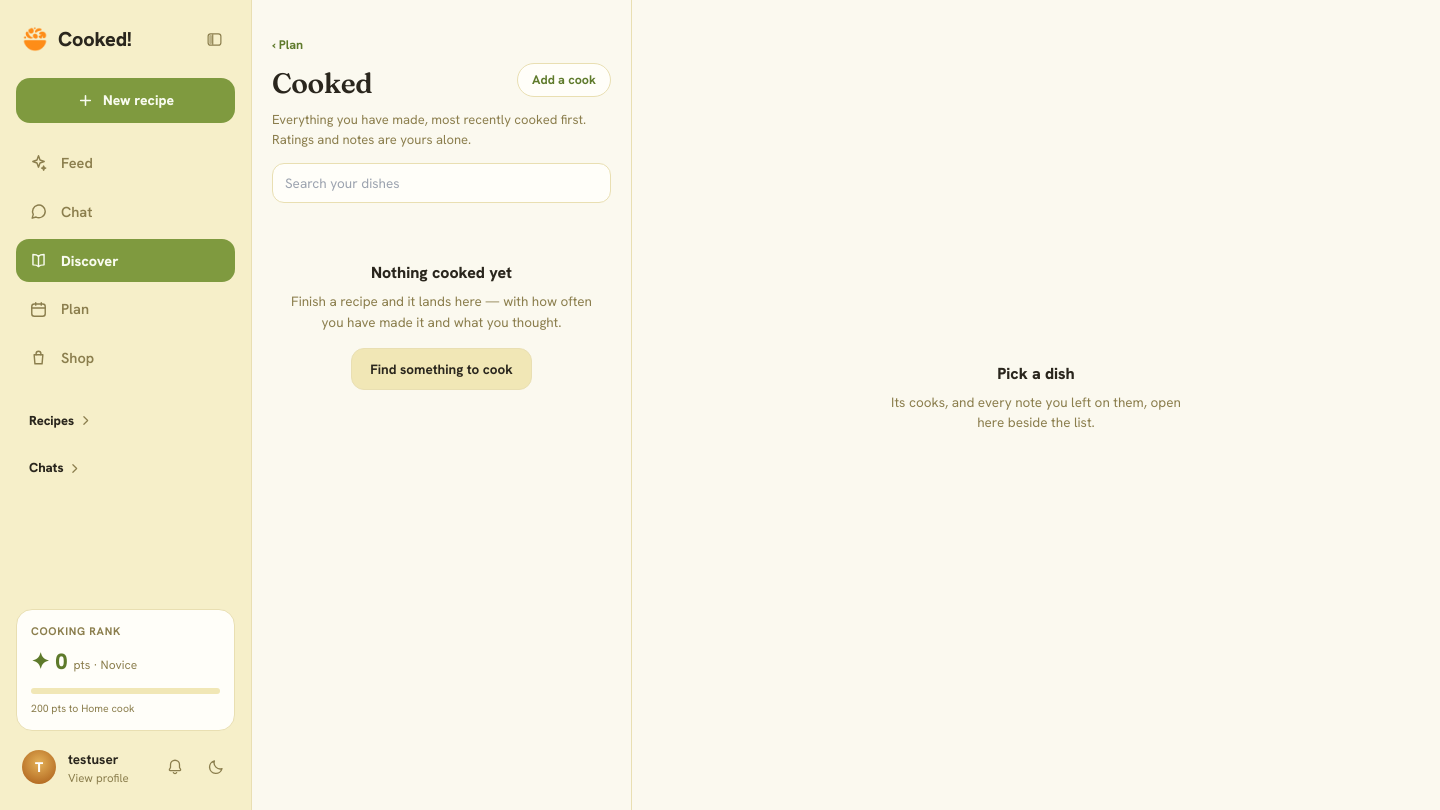
Test: Add a cook › opens on the lens that reaches recipes the user never saved
The width and height of the screenshot is (1440, 810).
What coordinates should you click on to do the following:
click the button "Add a cook"
I would click on:
 (564, 80)
Its box is left=517, top=63, right=611, bottom=97.
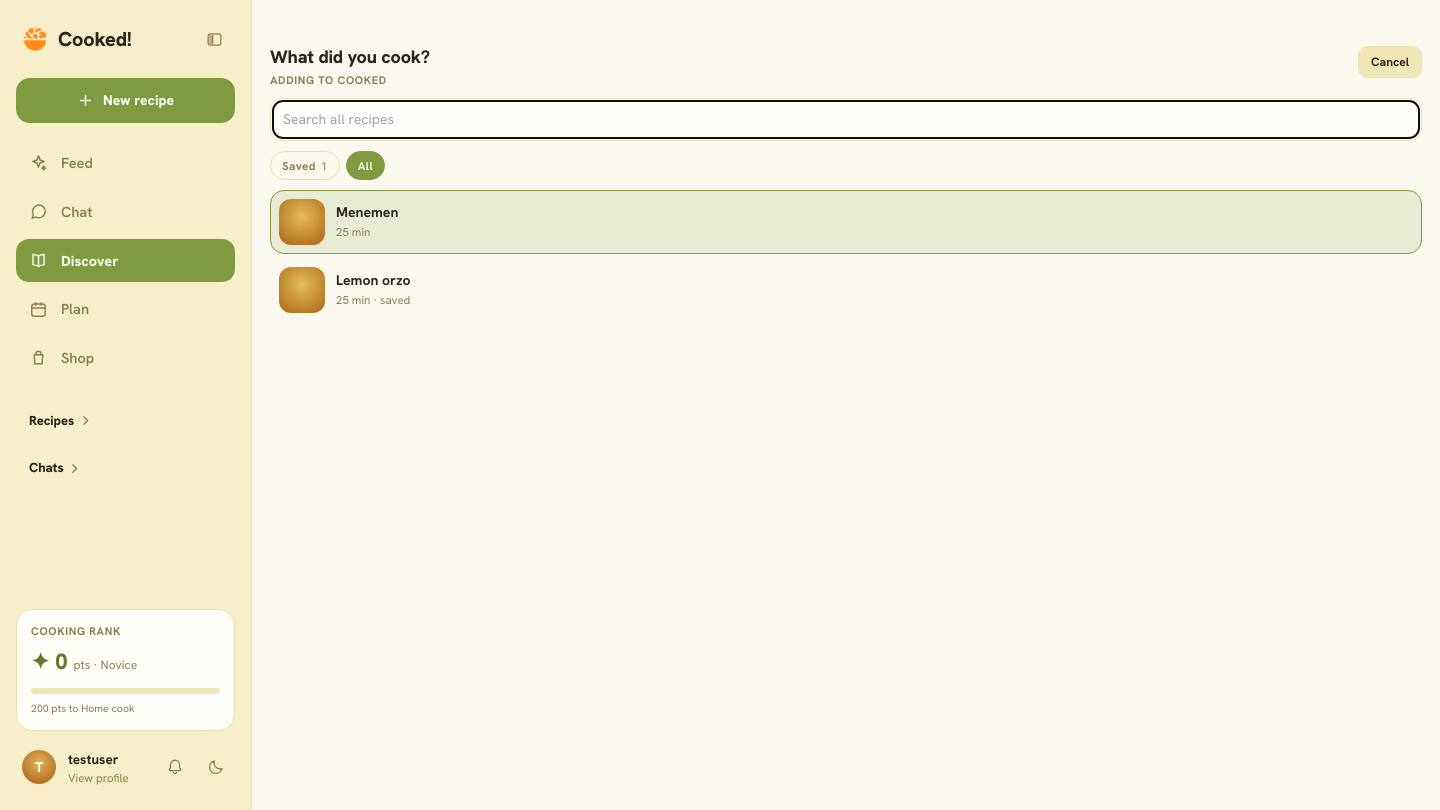
Result: the button "Menemen 25 min" is shown at left=270, top=190, right=1422, bottom=254
